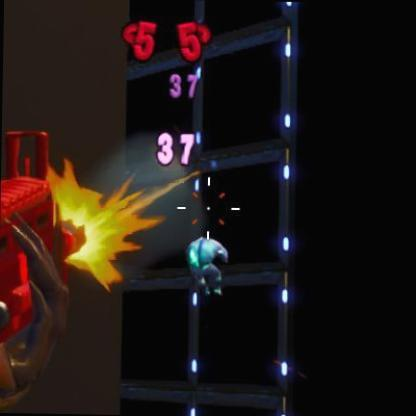person: (190, 232, 232, 294)
